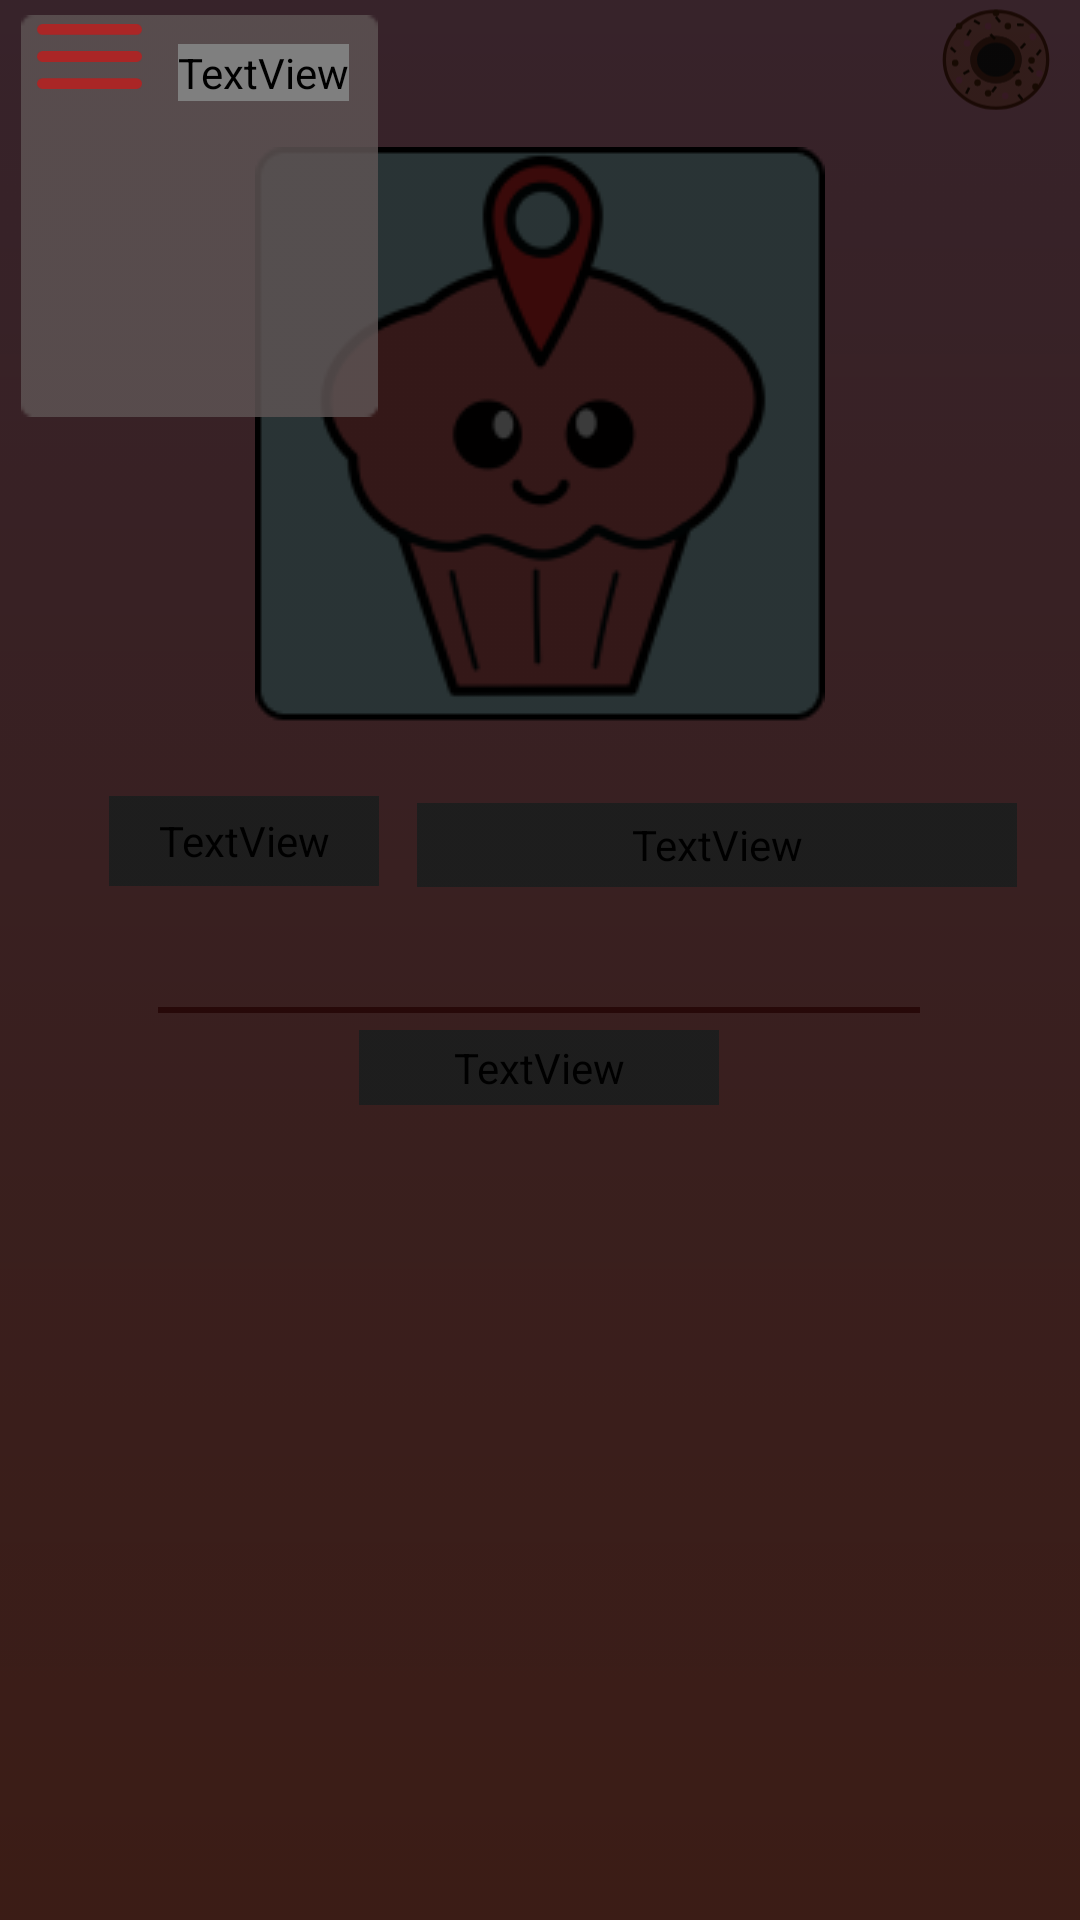

Icons on this 1080px x 1920px Android screen, each with its box as Rect(x1, y1, x2, y2):
donut: Rect(942, 9, 1050, 110)
menu: Rect(37, 24, 142, 89)
